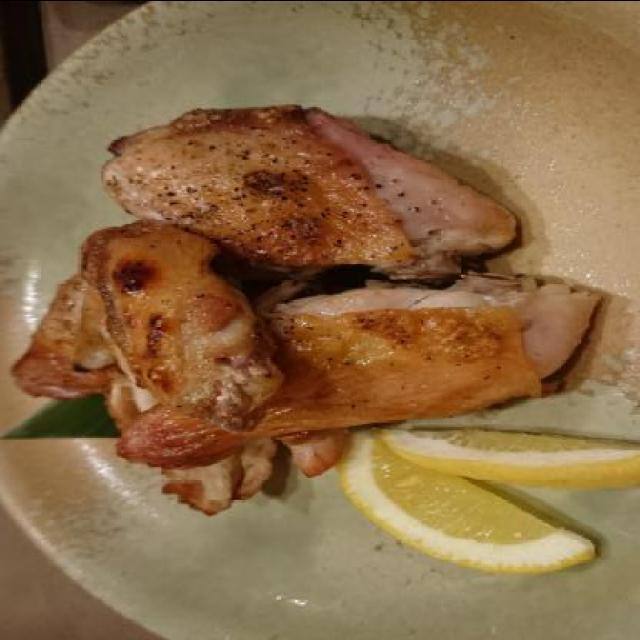Lemon: (328, 424, 600, 578), (378, 424, 640, 490)
